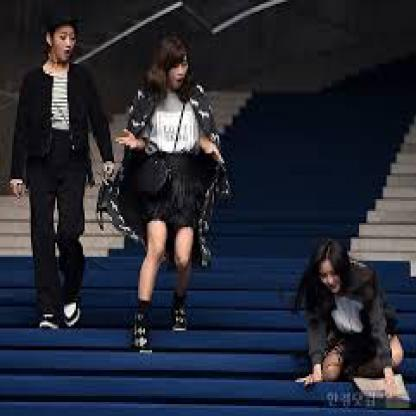Fall_Down: (298, 242, 406, 404)
